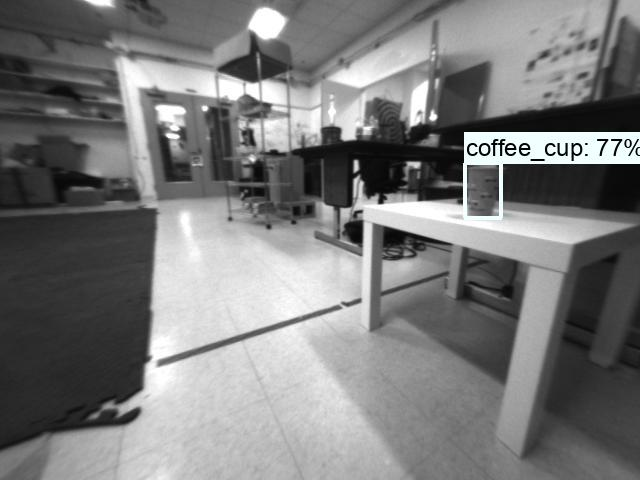coffee_cup: (467, 167, 505, 218)
